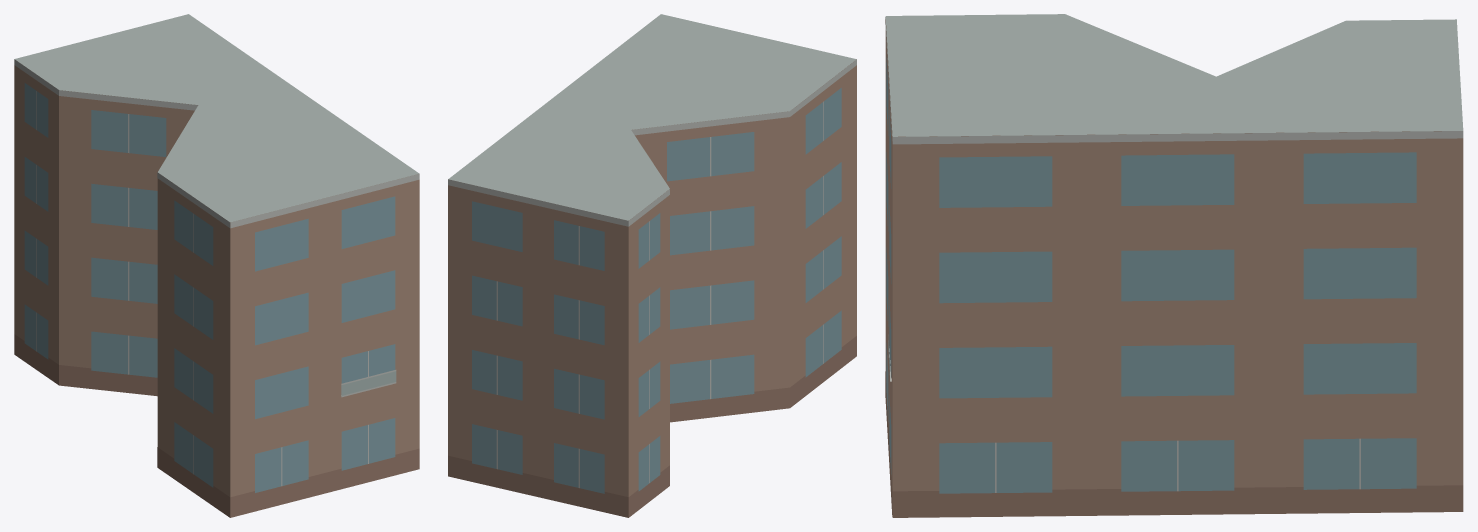
The model's file is residential-049144a2-a4f2-4dda-9714-e3d66f6c36d0.glb.
3 renders of one model, left to right at view 1: azimuth 30°, elevation 25°; view 2: azimuth 150°, elevation 25°; view 3: azimuth 270°, elevation 25°, orthographic. The views are drawn at different scales.
Visible parts, largest first — view 1: residential-049144a2-a4f2-4dda-9714-e3d66f6c36d0.tmp; view 2: residential-049144a2-a4f2-4dda-9714-e3d66f6c36d0.tmp; view 3: residential-049144a2-a4f2-4dda-9714-e3d66f6c36d0.tmp.
Boxes of the visible parts, <box> form: residential-049144a2-a4f2-4dda-9714-e3d66f6c36d0.tmp: <box>14,14,419,517</box>; residential-049144a2-a4f2-4dda-9714-e3d66f6c36d0.tmp: <box>448,14,856,517</box>; residential-049144a2-a4f2-4dda-9714-e3d66f6c36d0.tmp: <box>885,14,1463,517</box>.
Bounding box in the file's own units: 8.44 × 12.2 × 16.78.
